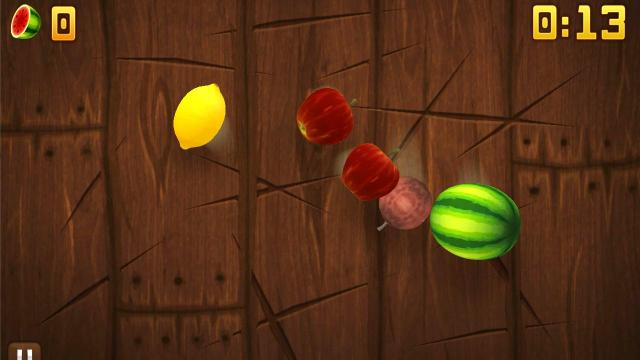fruit: (430, 183, 520, 259), (172, 84, 225, 150), (341, 142, 399, 202), (296, 87, 354, 145), (377, 174, 433, 230)
ignore: (9, 3, 43, 41)
